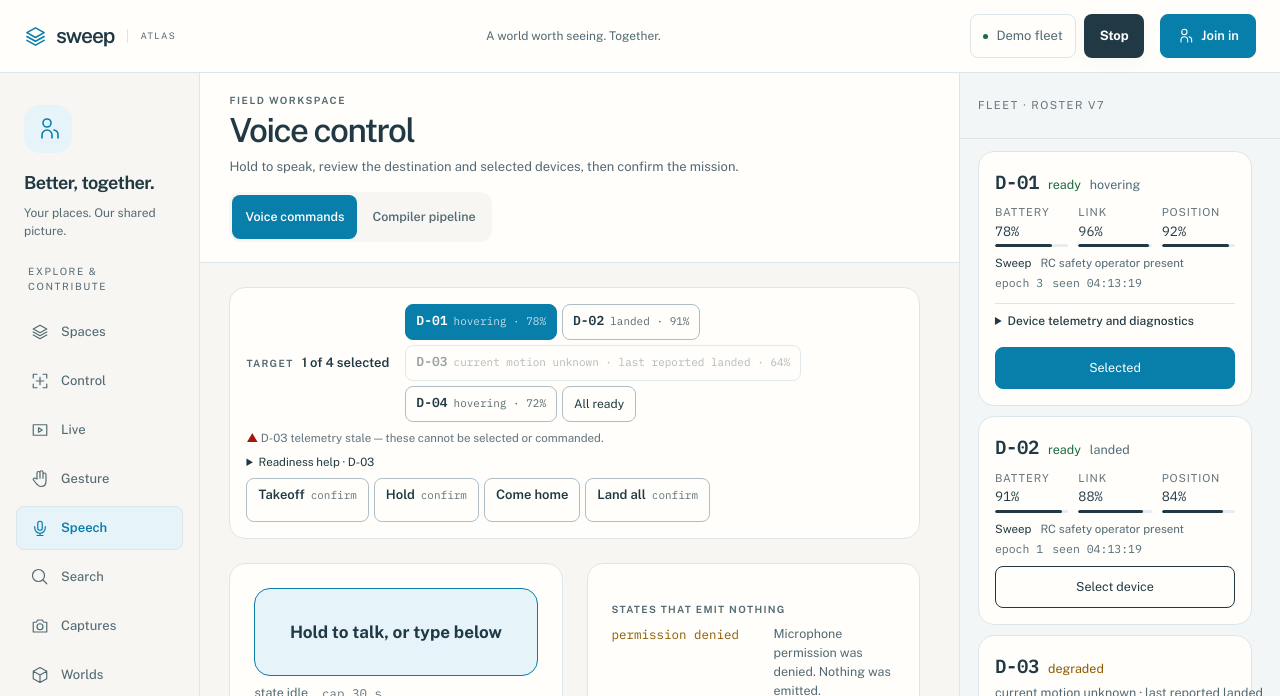
Test case: Speech module › a negated utterance the relay clarified shows the sentence and stages nothing
Press the mouse on the button "Hold to talk, or type below": (396, 632) [254,588,538,676]
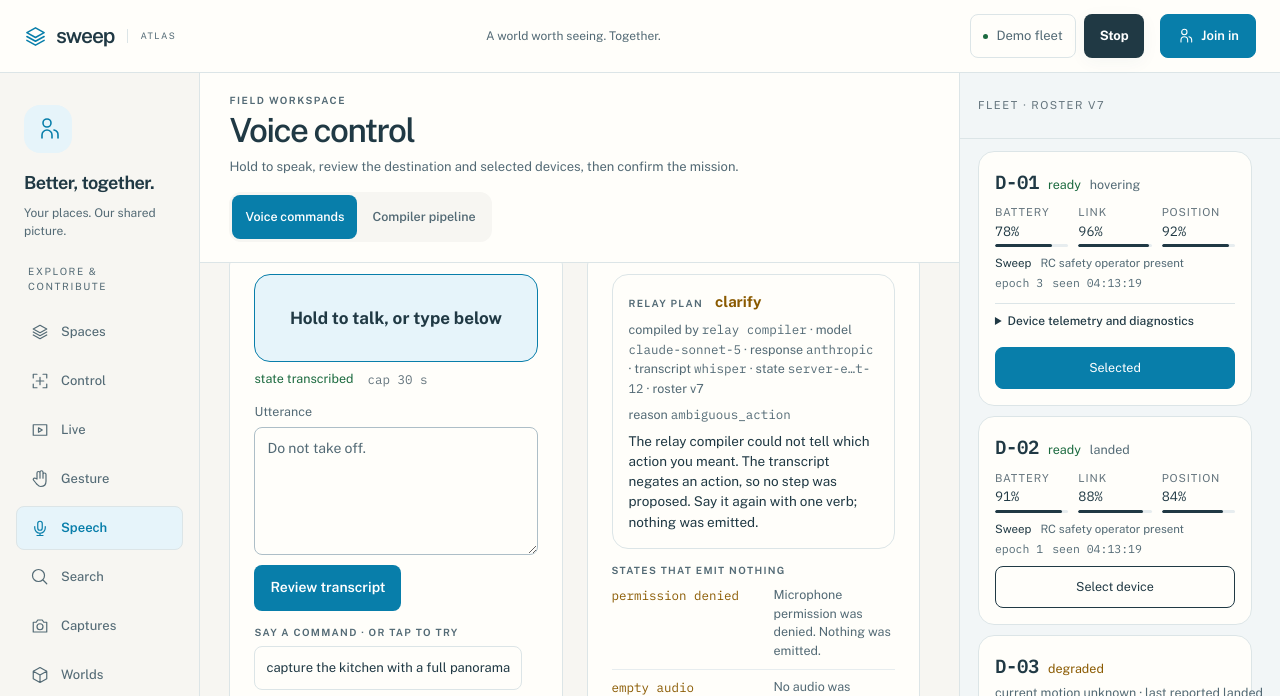
Expected: the element named "Compiled plan" shows "clarify", [715,293,761,310]
Expected: the element named "Compiled plan" shows "reason ambiguous_action", [612,274,895,549]
Expected: the element named "Compiled plan" shows "The relay compiler could not tell which action you meant. The transcript negates an action, so no step was proposed. Say it again with one verb; nothing was emi", [628,432,870,530]
